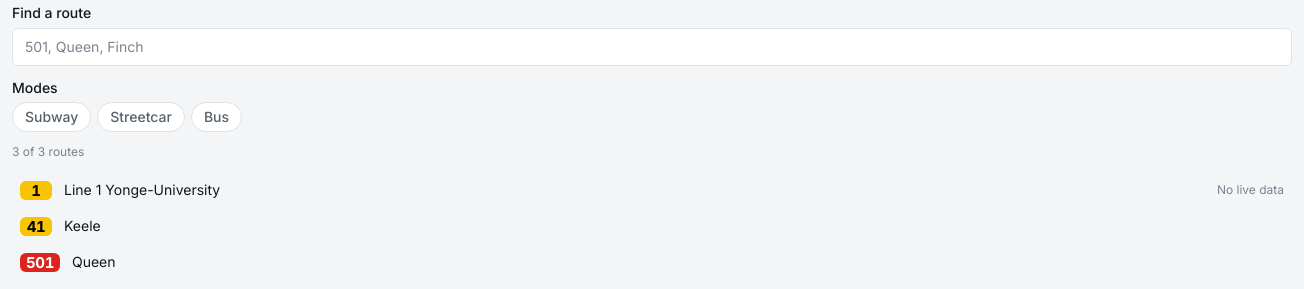
it: RouteFilterPanel › narrows the list as a query is typed
Type "queen" into the search field labelled "Find a route" at x=652, y=47, box [12,28,1292,66]
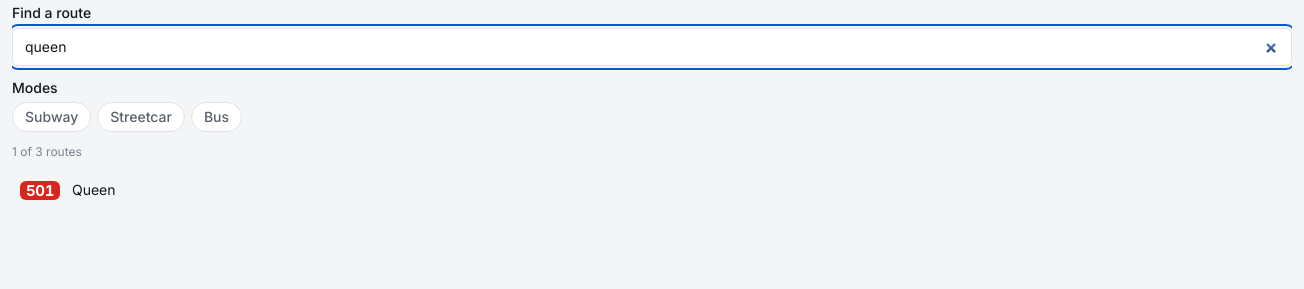
Expected: the text "Queen" is shown, [72,181,116,198]
Expected: the button "Keele" is gone
Expected: the text "1 of 3 routes" is shown, [12,144,82,159]
